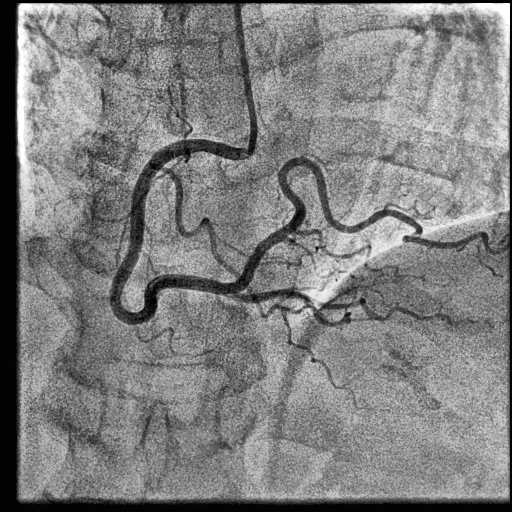pborca: (235, 156, 506, 292)
pda: (236, 289, 443, 322)
rca: (109, 139, 249, 325)
